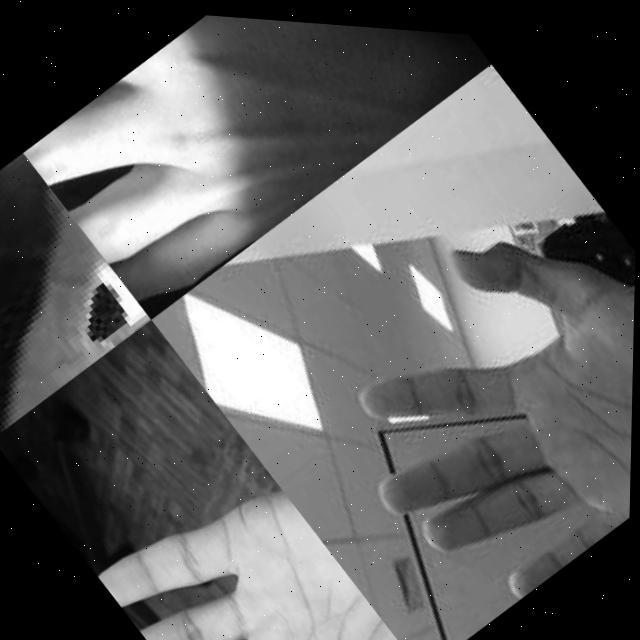no-gloves: (284, 137, 638, 628), (20, 2, 486, 334), (96, 439, 430, 640), (0, 151, 154, 446)
